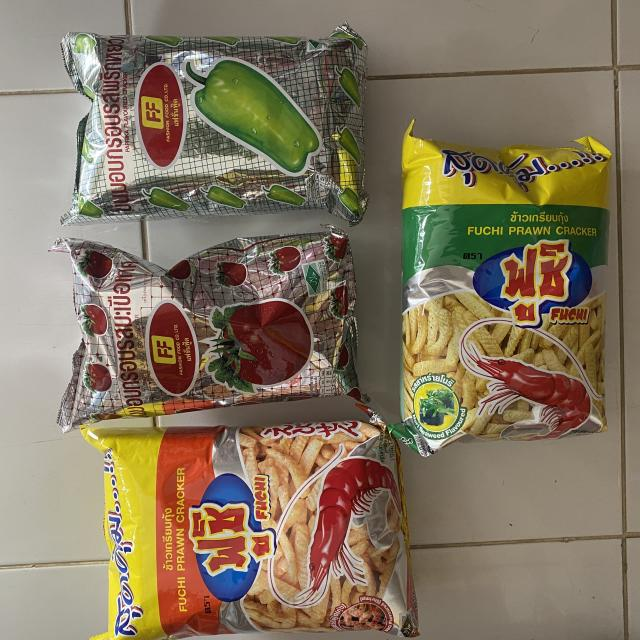plastik: (390, 121, 611, 455), (82, 421, 419, 640), (51, 226, 362, 431), (61, 25, 368, 225)
